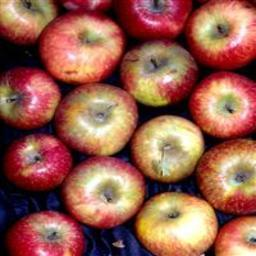apple: (38, 8, 126, 87), (59, 155, 145, 228), (54, 89, 139, 161), (124, 43, 203, 113), (132, 192, 217, 254), (129, 114, 203, 182), (186, 2, 255, 72), (187, 75, 252, 146), (197, 145, 256, 218), (2, 132, 73, 192), (1, 65, 60, 130), (3, 208, 84, 255), (111, 1, 191, 40), (1, 1, 60, 47), (212, 216, 256, 255)
